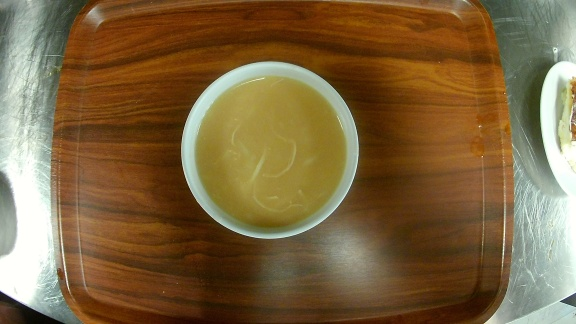tavukcorba: (180, 60, 361, 241)
